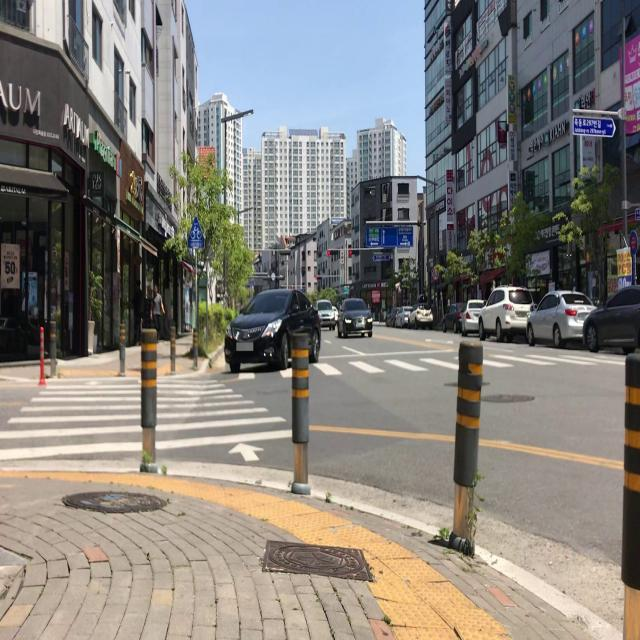횡단보도: (0, 377, 293, 463), (315, 352, 625, 377)
